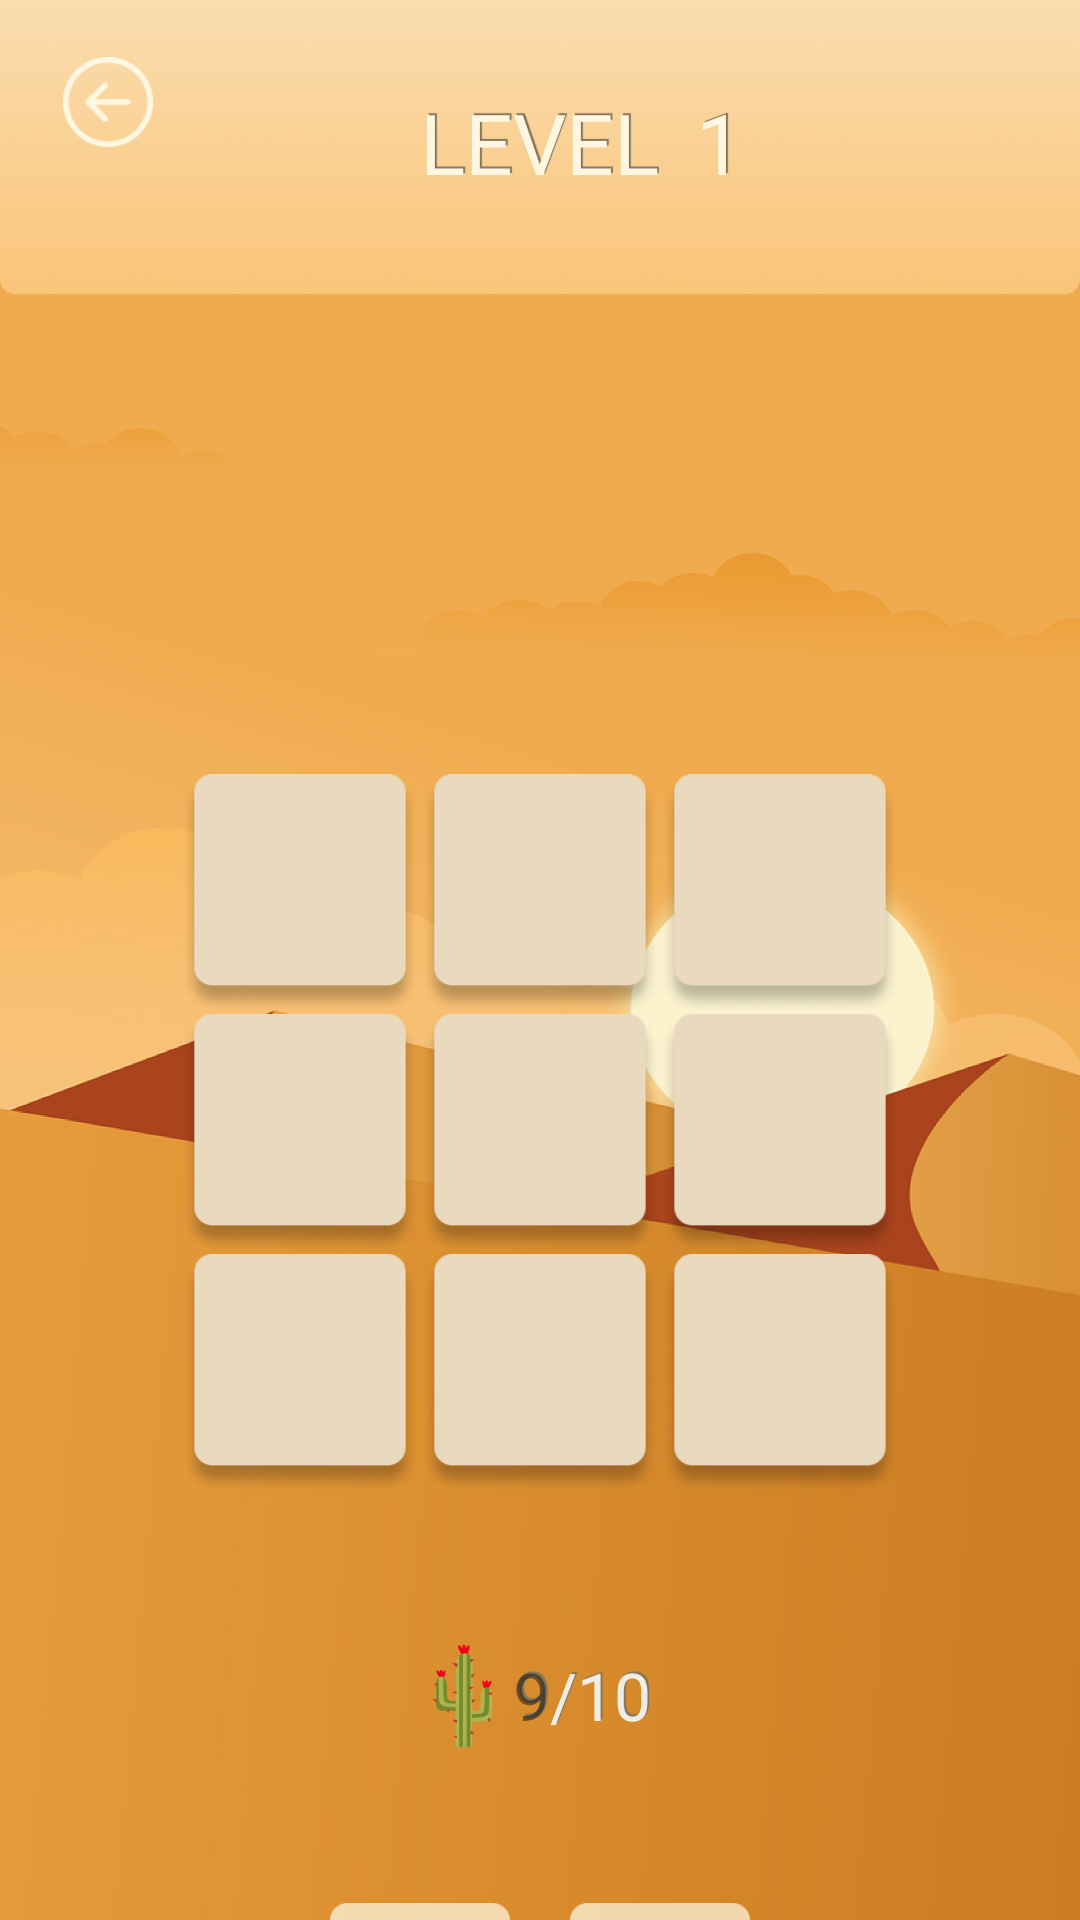

Screen size 1080px×1920px. Icon name, then its box in pixels as [x1=x1, y1=y1, x2=x2, y2=y2]:
back: [x1=15, y1=57, x2=165, y2=177]
cactus: [x1=433, y1=1645, x2=493, y2=1747]
